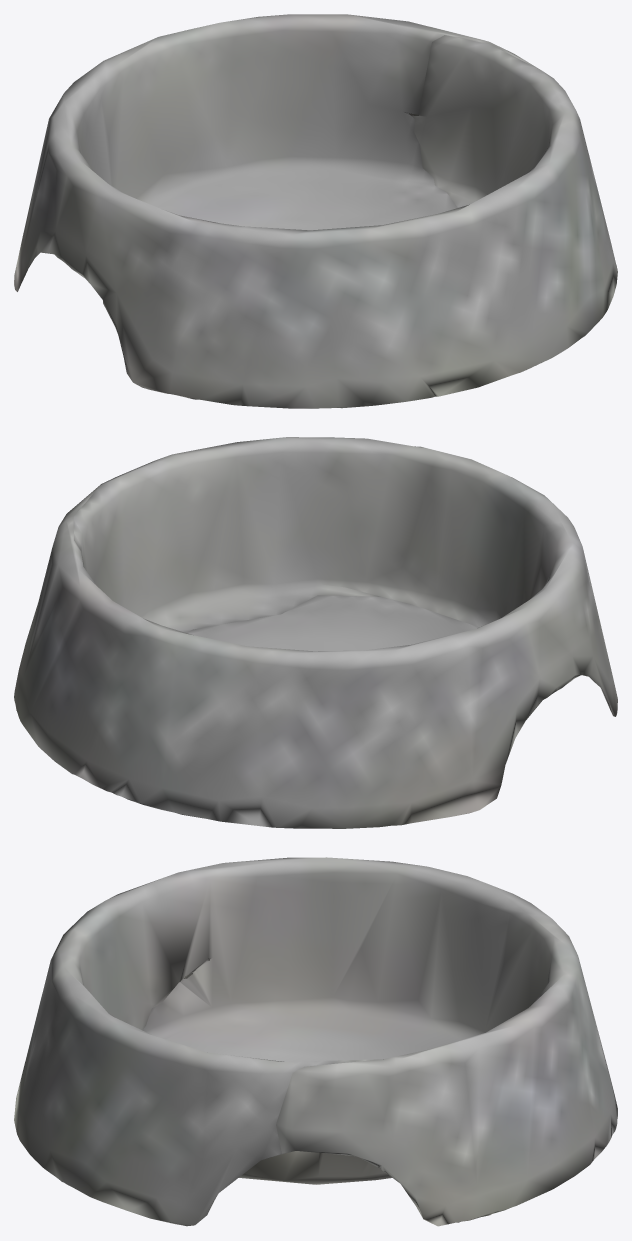
The model's file is Grreatv_Choice_Dog_Bowl_Gray_Bones_Plastic_20_fl_oz_total-medium.glb.
3 views of the same model, one above another, from view 1: azimuth 30°, elevation 25°; view 2: azimuth 150°, elevation 25°; view 3: azimuth 270°, elevation 25° (orthographic).
Parts seen in each view (by area): view 1: Grreatv_Choice_Dog_Bowl_Gray_Bones_Plastic_20_fl_oz_total; view 2: Grreatv_Choice_Dog_Bowl_Gray_Bones_Plastic_20_fl_oz_total; view 3: Grreatv_Choice_Dog_Bowl_Gray_Bones_Plastic_20_fl_oz_total.
Part boxes in pixels (x1=…): Grreatv_Choice_Dog_Bowl_Gray_Bones_Plastic_20_fl_oz_total: x1=14, y1=14, x2=617, y2=408; Grreatv_Choice_Dog_Bowl_Gray_Bones_Plastic_20_fl_oz_total: x1=14, y1=437, x2=617, y2=828; Grreatv_Choice_Dog_Bowl_Gray_Bones_Plastic_20_fl_oz_total: x1=14, y1=857, x2=617, y2=1226.
Size of the model in its own units: 0.1707 by 0.0538 by 0.183.
1 material, 1 textured.
